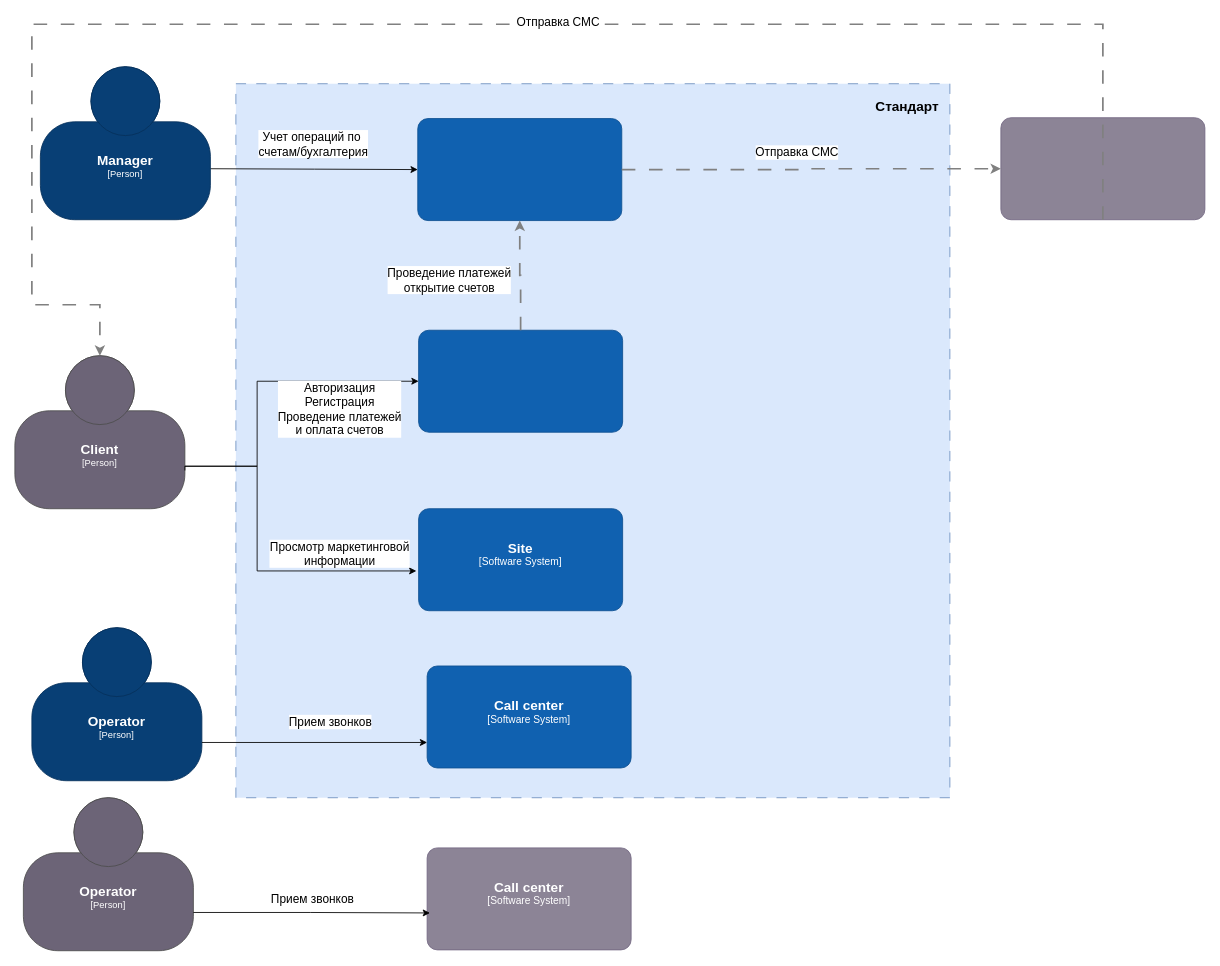
The diagram is 1220 pixels wide and 966 high, and some of its shapes have lost their labels. The shapes that lost their labels are listed below. From the top down, each one's box as (x1, y1, x2, y2) in pixels, then its label:
(417, 118, 622, 221): ABS [Software System]
(1000, 117, 1205, 220): Telecom operator [Software System]
(418, 329, 623, 432): Internet bank [Software System]
